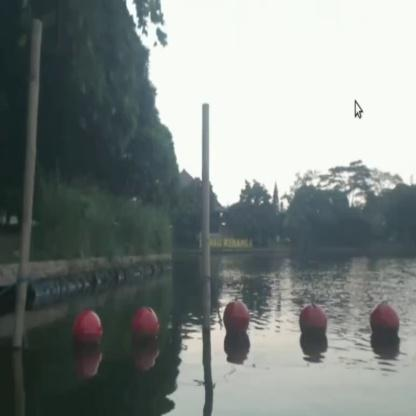red_buoy: (370, 298, 402, 344), (298, 302, 330, 346), (74, 308, 102, 356), (223, 296, 248, 342), (133, 308, 159, 346)
